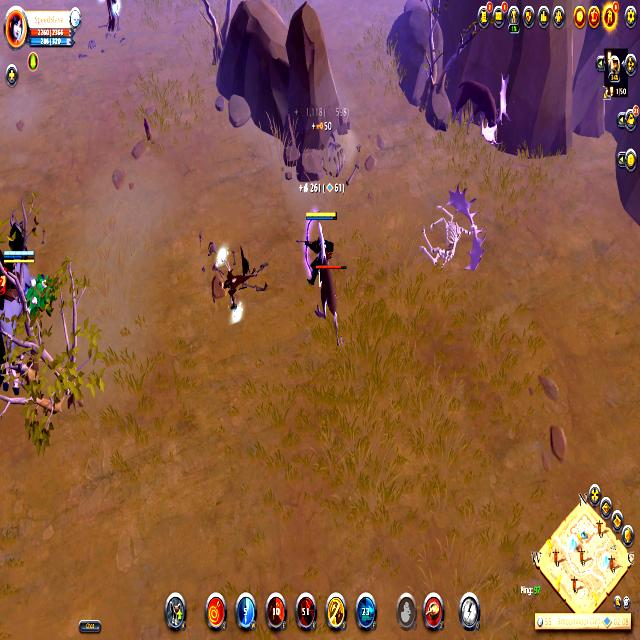hide: (23, 270, 52, 326)
ore: (304, 223, 348, 345), (452, 66, 510, 148), (99, 0, 125, 35)
red: (303, 206, 340, 281), (1, 196, 35, 267)
